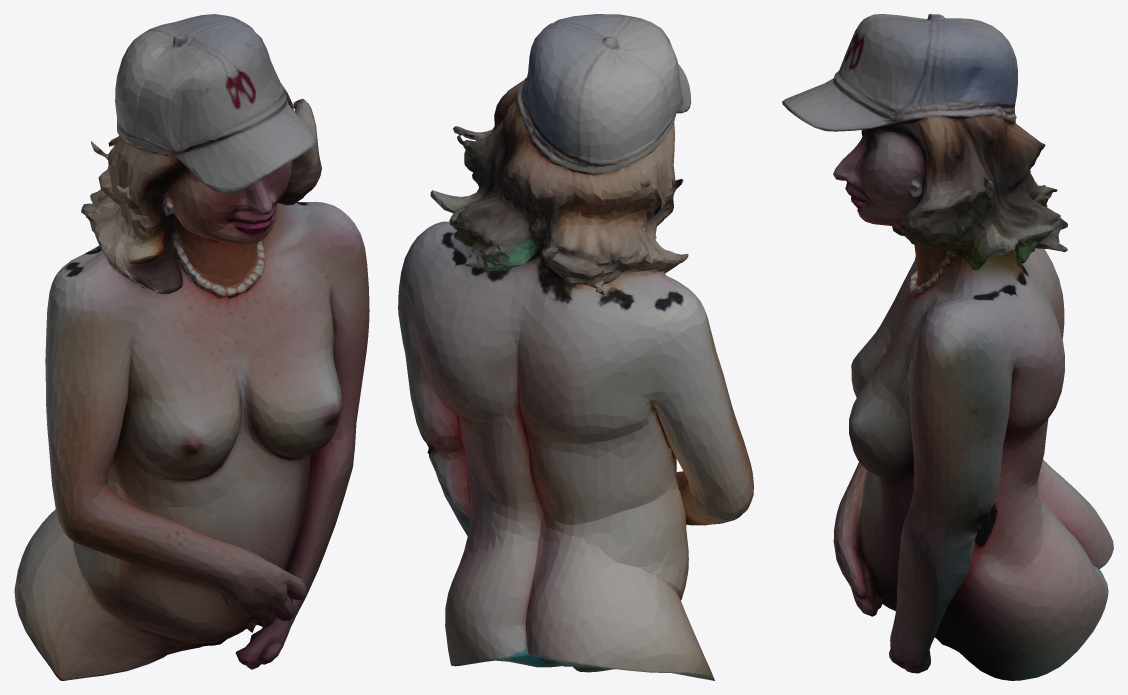
File: 8c1b4ebd-2583-48cc-b89e-444dd0cb80d1.glb
The picture shows the model from 3 angles, left to right: view 1: azimuth 30°, elevation 25°; view 2: azimuth 150°, elevation 25°; view 3: azimuth 270°, elevation 25°; orthographic projection.
Visible parts, largest first — view 1: world; view 2: world; view 3: world.
Boxes of the visible parts, x1=… form: world: x1=14, y1=14, x2=369, y2=680; world: x1=398, y1=14, x2=753, y2=680; world: x1=782, y1=14, x2=1113, y2=680.
Bounding box in the file's own units: 0.5303 × 0.9995 × 0.4806.
1 material, 1 textured.
